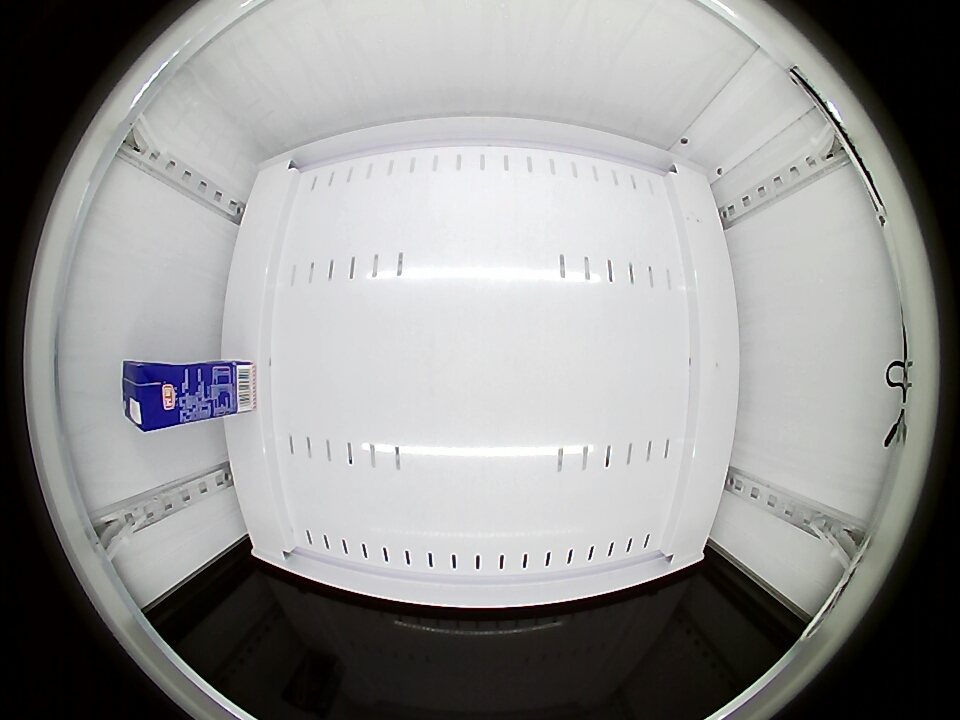bingqilinniunai: (122, 360, 187, 433)
